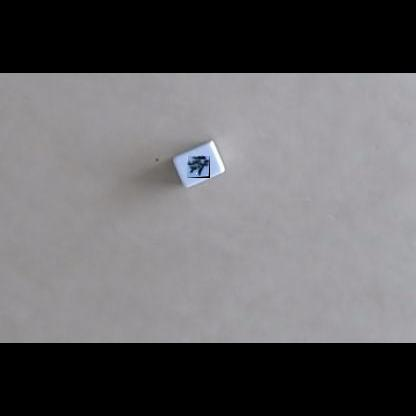6z: (187, 156, 210, 178)
